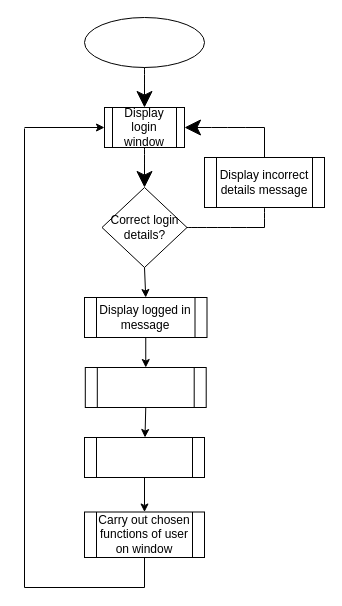
The diagram is 342 pixels wide and 606 high, and some of its shapes have lost their labels. Each missing label, with the centre of its shape:
Display main menu: point 145,387
Display window of chosen section: point 144,457
Start: point 144,42
